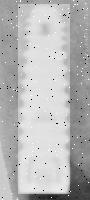Zimmer: (14, 4, 70, 194)
